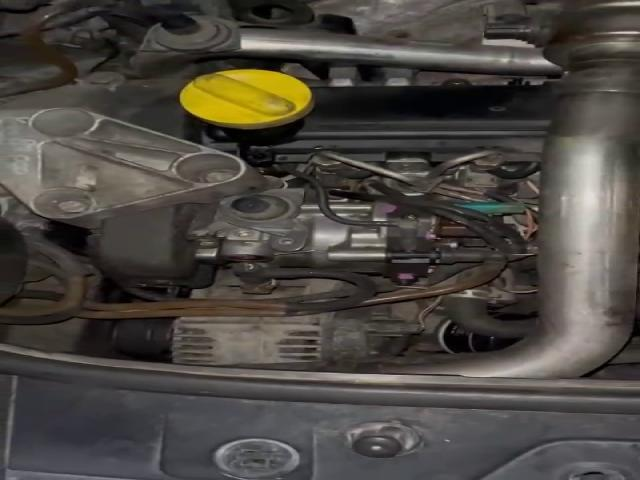alternator: (170, 303, 421, 367)
high_pressure_pump: (218, 198, 464, 286)
